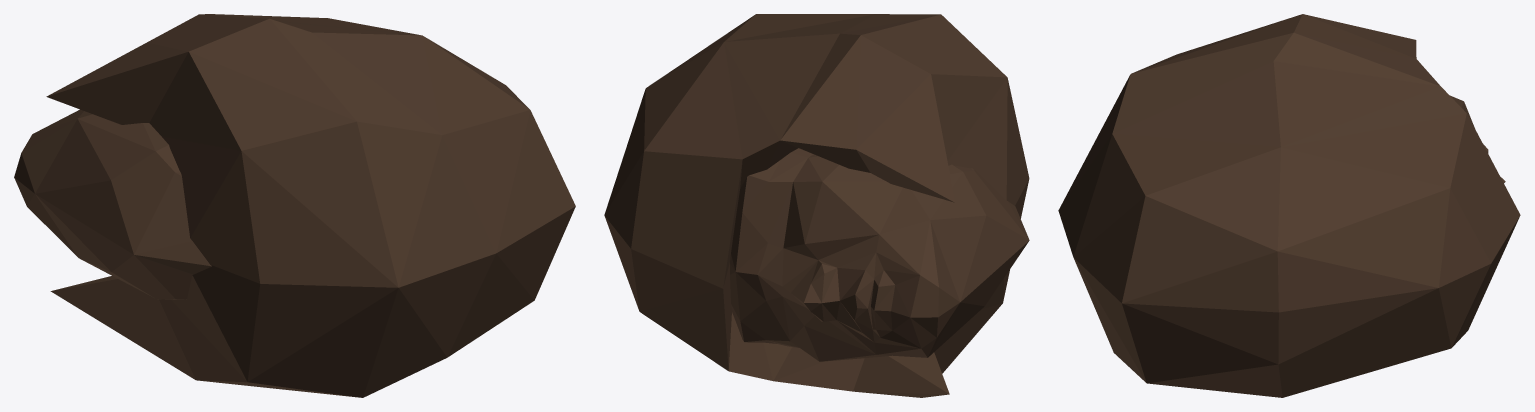
Rendered from HUM_HEAD_BABE6.OBJ.
3 renders of one model, left to right at view 1: azimuth 30°, elevation 25°; view 2: azimuth 150°, elevation 25°; view 3: azimuth 270°, elevation 25°, orthographic. The views are drawn at different scales.
Visible parts, largest first — view 1: HUM_HEAD_BABE6; view 2: HUM_HEAD_BABE6; view 3: HUM_HEAD_BABE6.
Part boxes in pixels (bbox=[...]): HUM_HEAD_BABE6: bbox=[14, 14, 575, 397]; HUM_HEAD_BABE6: bbox=[604, 14, 1029, 397]; HUM_HEAD_BABE6: bbox=[1058, 14, 1520, 397].
Size of the model in its own units: 0.2726 by 0.2316 by 0.2779.
